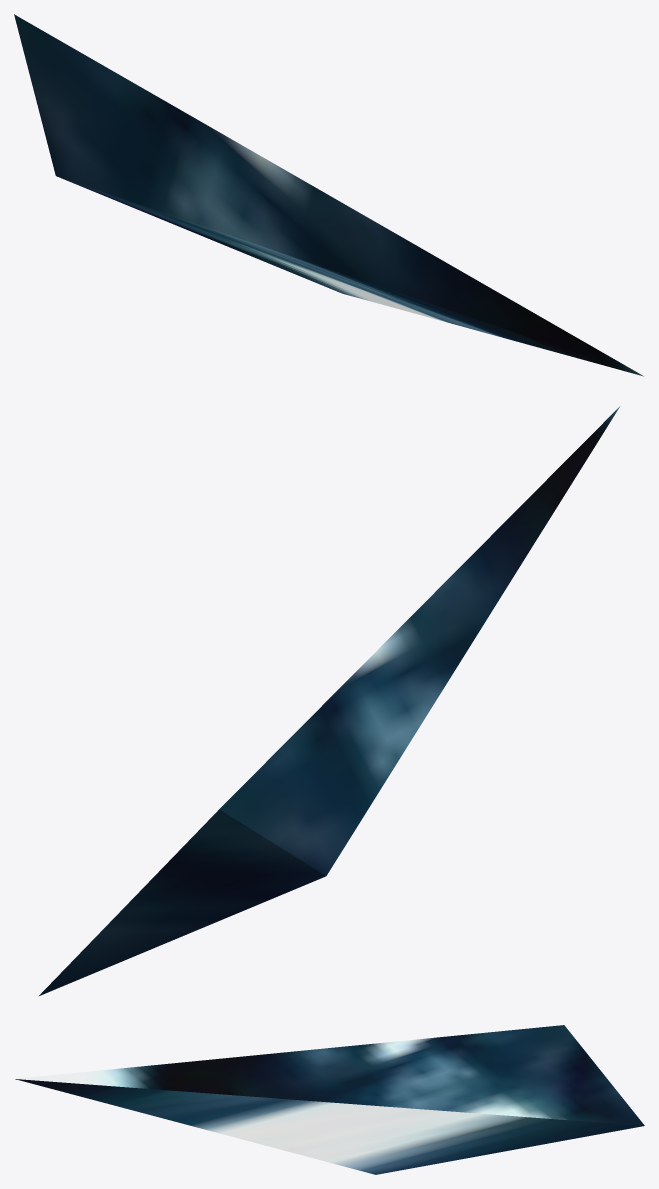
Rendered from Ice02.glb.
3 views of the same model, one above another, from view 1: azimuth 30°, elevation 25°; view 2: azimuth 150°, elevation 25°; view 3: azimuth 270°, elevation 25° (orthographic). The views are drawn at different scales.
Visible parts, largest first — view 1: model_Ice02; view 2: model_Ice02; view 3: model_Ice02.
Boxes of the visible parts, <box> form: model_Ice02: <box>14,14,643,376</box>; model_Ice02: <box>39,406,619,995</box>; model_Ice02: <box>15,1025,644,1174</box>.
Size of the model in its own units: 0.0913 by 0.091 by 0.4853.
1 material, 1 textured.
